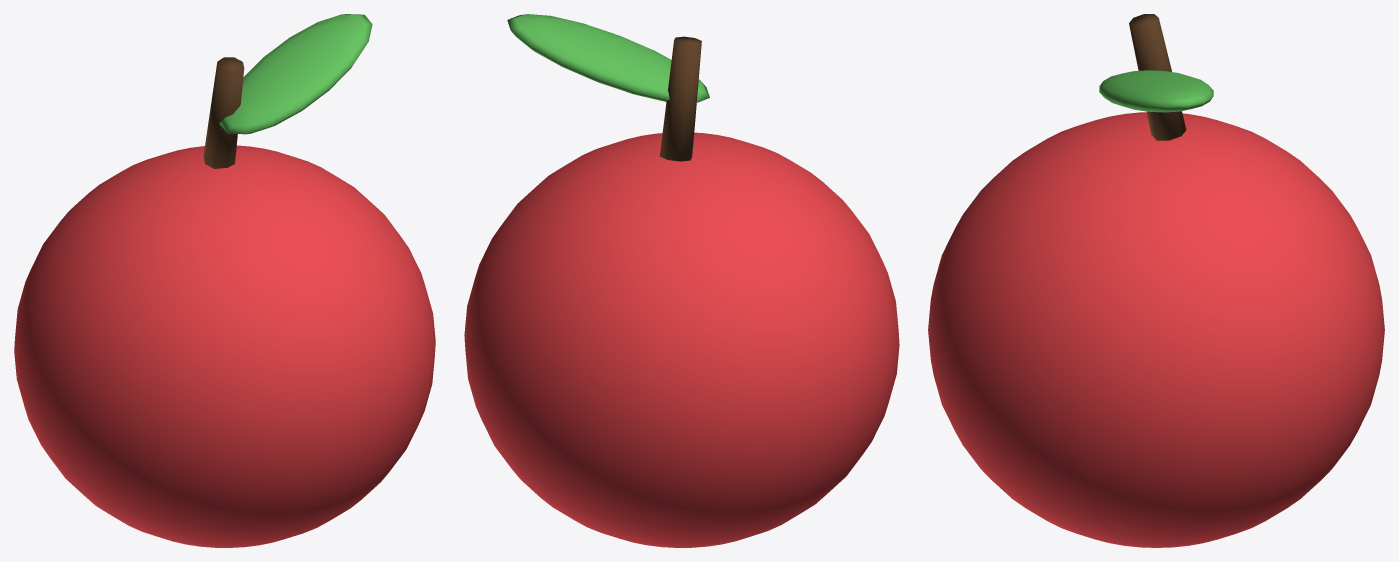
The model's file is fruit_apple.glb.
The picture shows the model from 3 angles, left to right: view 1: azimuth 30°, elevation 25°; view 2: azimuth 150°, elevation 25°; view 3: azimuth 270°, elevation 25°; orthographic projection. The views are drawn at different scales.
Visible parts, largest first — view 1: fruit_apple; view 2: fruit_apple; view 3: fruit_apple.
Part boxes in pixels (box(x1,y1,x2,y2)): fruit_apple: box(14, 14, 435, 547); fruit_apple: box(464, 14, 899, 547); fruit_apple: box(928, 14, 1384, 547).
Size of the model in its own units: 0.36 by 0.4414 by 0.36.
